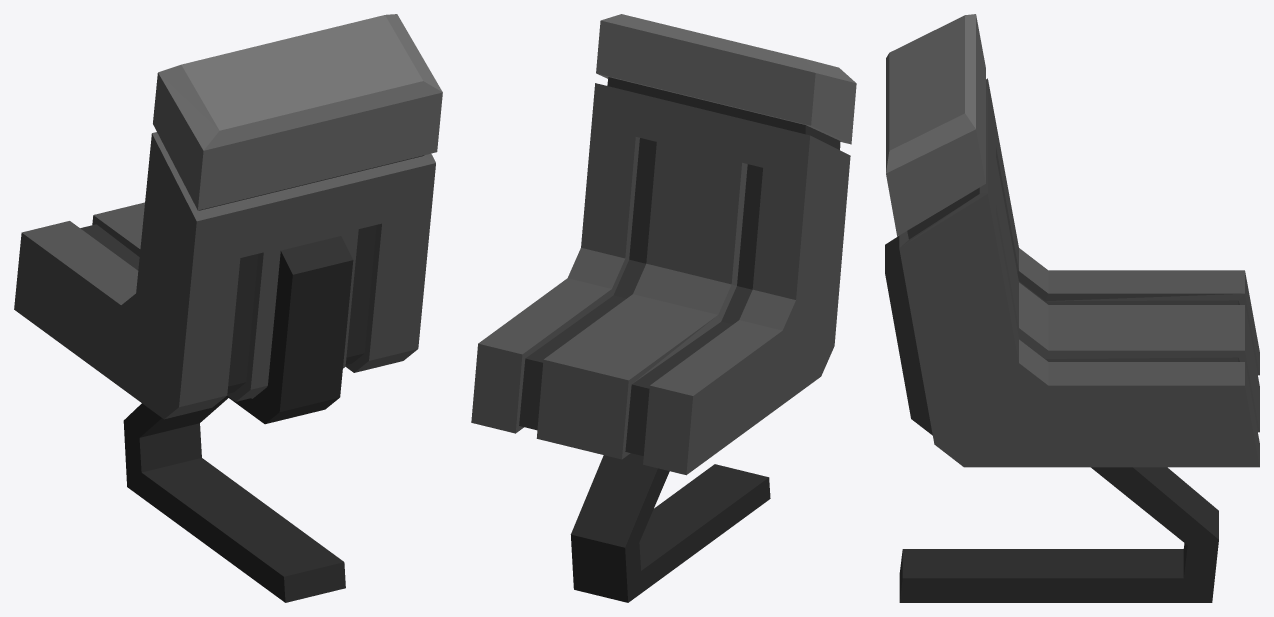
File: chair_F.FBX
3 views of the same model, side by side, from view 1: azimuth 30°, elevation 25°; view 2: azimuth 150°, elevation 25°; view 3: azimuth 270°, elevation 25° (orthographic). The views are drawn at different scales.
Parts seen in each view (by area): view 1: chair_F; view 2: chair_F; view 3: chair_F.
Boxes of the visible parts, bbox=[...] form: chair_F: bbox=[14, 14, 442, 602]; chair_F: bbox=[471, 14, 856, 602]; chair_F: bbox=[885, 14, 1259, 602].
Bounding box in the file's own units: 22.26 × 47.22 × 30.58.
